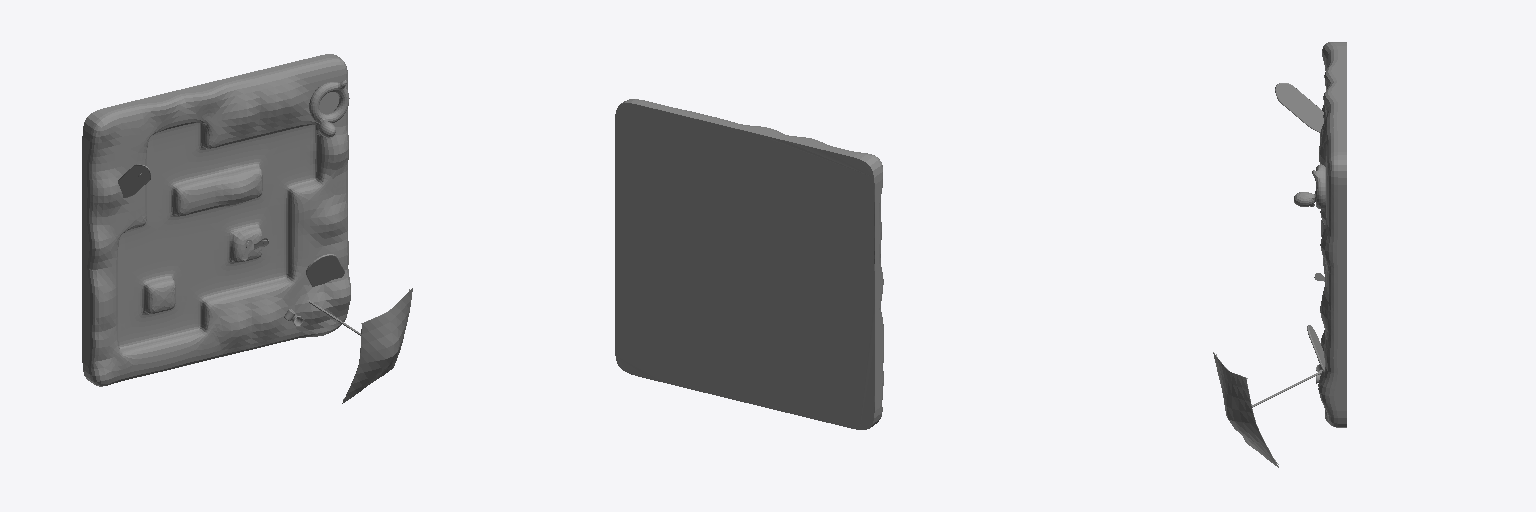
File: lvl3_fromMax.obj
3 renders of one model, left to right at view 1: azimuth 30°, elevation 25°; view 2: azimuth 150°, elevation 25°; view 3: azimuth 270°, elevation 25°, orthographic.
Visible parts, largest first — view 1: Plane001; view 2: Plane001; view 3: Plane001.
Boxes of the visible parts, <box> form: Plane001: <box>82,54,412,403</box>; Plane001: <box>615,99,883,429</box>; Plane001: <box>1213,42,1346,467</box>.
Bounding box in the file's own units: 8.78 × 9.12 × 3.63.